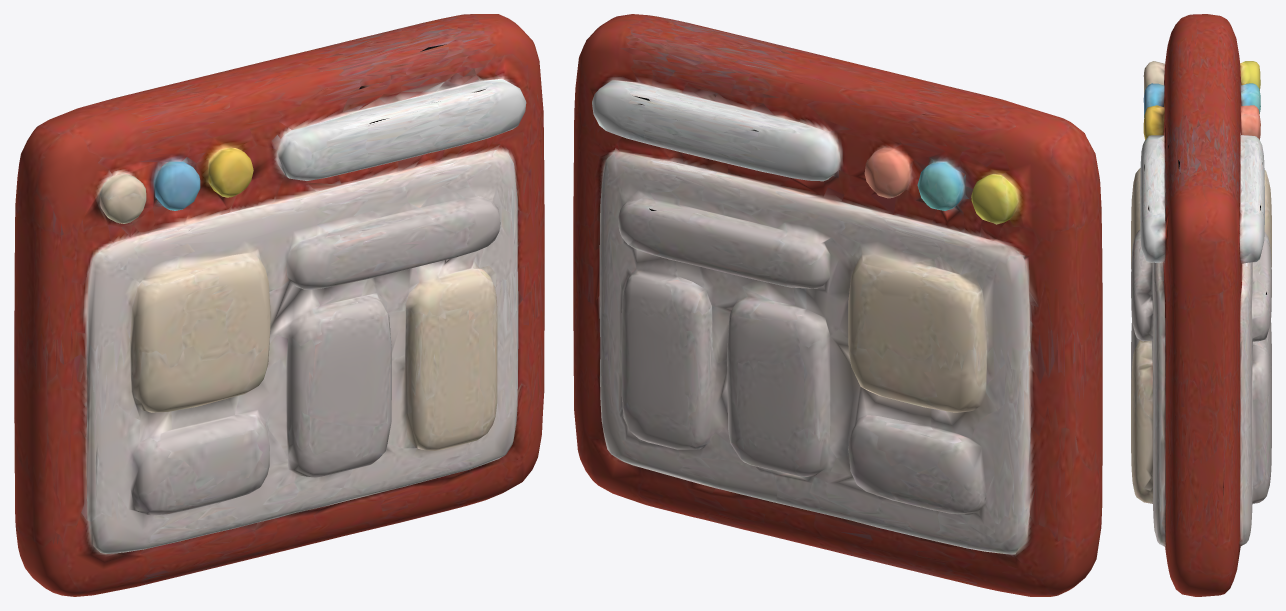
The model's file is obj-web.glb.
The picture shows the model from 3 angles, left to right: view 1: azimuth 30°, elevation 25°; view 2: azimuth 150°, elevation 25°; view 3: azimuth 270°, elevation 25°; orthographic projection. The views are drawn at different scales.
Visible parts, largest first — view 1: tripo_node_a34f135a-847e-4360-8c47-4ca483469dda; view 2: tripo_node_a34f135a-847e-4360-8c47-4ca483469dda; view 3: tripo_node_a34f135a-847e-4360-8c47-4ca483469dda.
Boxes of the visible parts, x1,y1,x2,y2 form: tripo_node_a34f135a-847e-4360-8c47-4ca483469dda: (14,14,544,596); tripo_node_a34f135a-847e-4360-8c47-4ca483469dda: (573,14,1102,596); tripo_node_a34f135a-847e-4360-8c47-4ca483469dda: (1131,14,1271,596).
Size of the model in its own units: 0.9799 by 0.8738 by 0.2738.
1 material, 1 textured.
